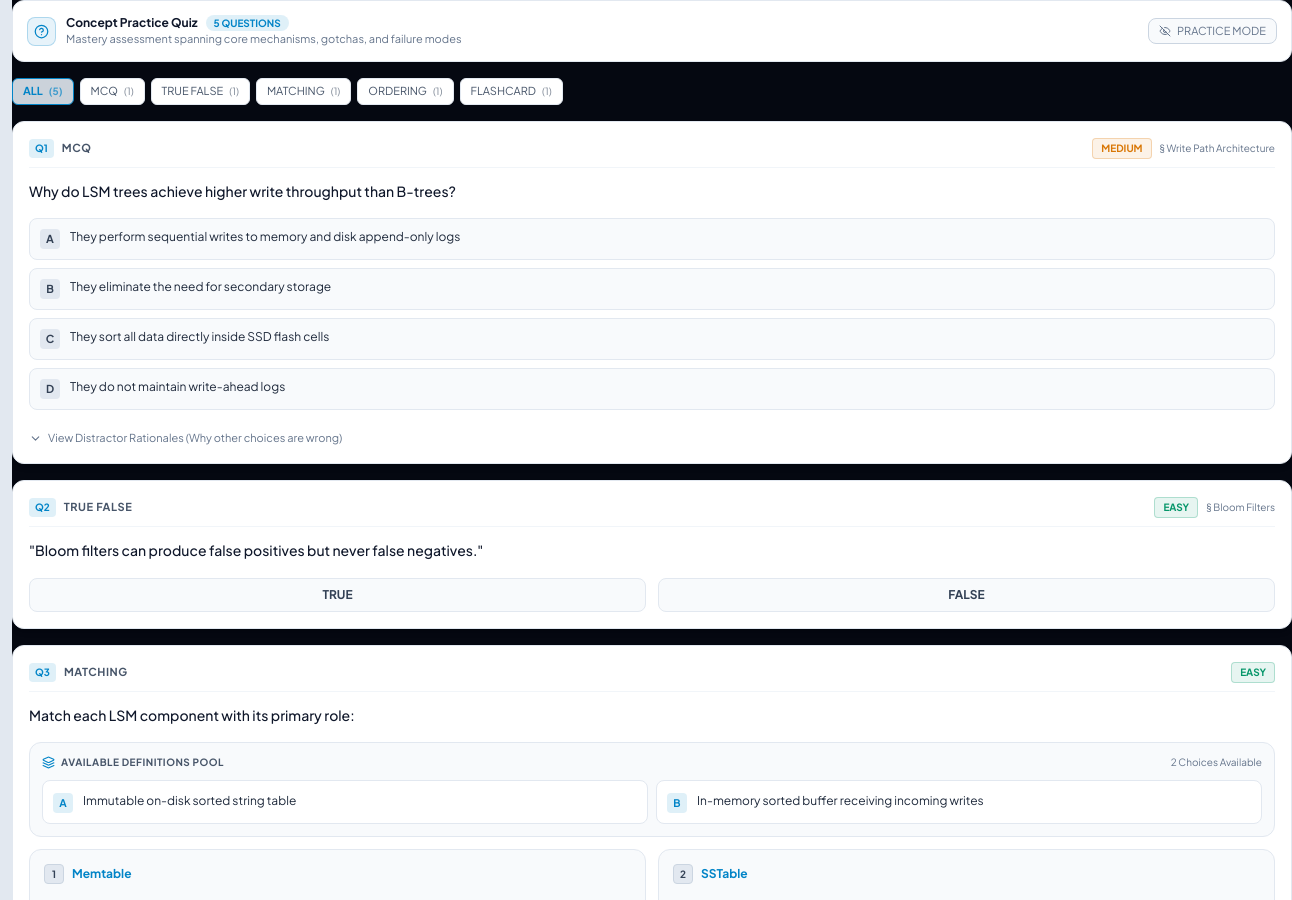
QuizViewer Component › renders MCQ with options and expandable distractor explanations
Check: the text "Why do LSM trees achieve higher write throughput than B-trees?" is shown, box top-left (29, 182), bottom-right (456, 200)
Check: the text "They perform sequential writes to memory" is shown, box top-left (70, 229), bottom-right (460, 244)
Distractor expansion
What coordinates should you click on to do the following:
click the button "View Distractor Rationales (Why other choices are wrong)"
I would click on:
 (186, 439)
Its box is top-left (29, 430), bottom-right (342, 447).
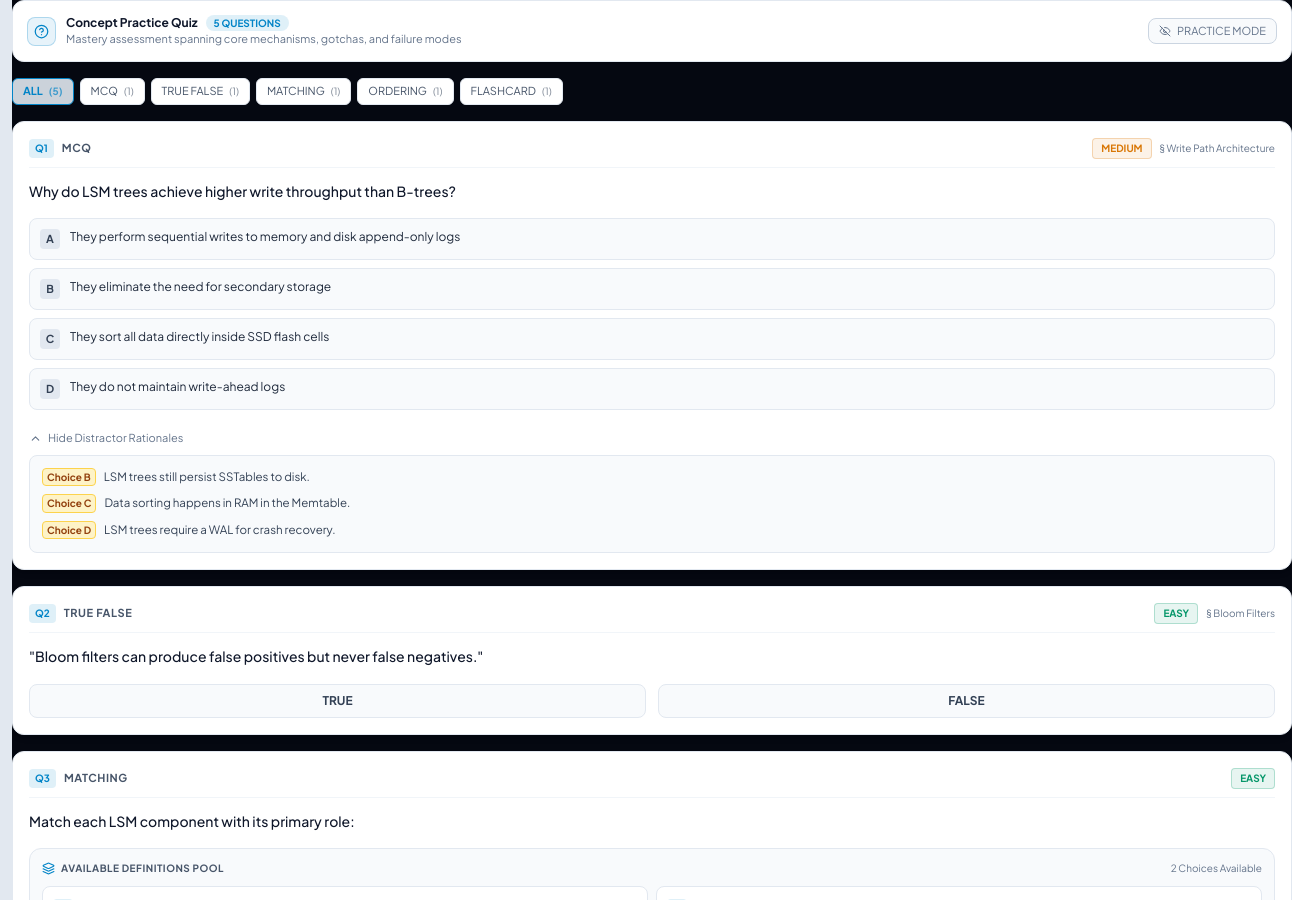
Check: the text "LSM trees still persist SSTables to disk." is shown, box top-left (104, 468), bottom-right (310, 486)
Check: the text "Data sorting happens in RAM in the Memtable." is shown, box top-left (104, 494), bottom-right (350, 513)
